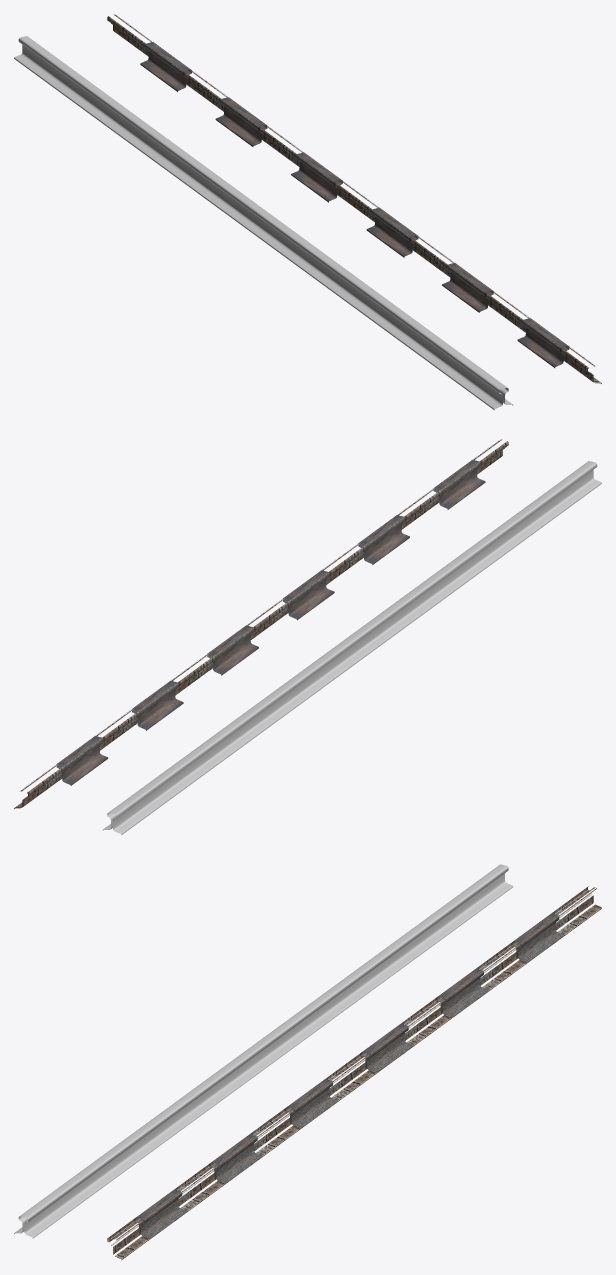
File: rail.obj
3 views of the same model, one above another, from view 1: azimuth 30°, elevation 25°; view 2: azimuth 150°, elevation 25°; view 3: azimuth 330°, elevation 25° (orthographic).
Parts seen in each view (by area): view 1: group_2.003_ID39.000_group_2.003_ID39.003; view 2: group_2.003_ID39.000_group_2.003_ID39.003; view 3: group_2.003_ID39.000_group_2.003_ID39.003.
Boxes of the visible parts, x1,y1,x2,y2 form: group_2.003_ID39.000_group_2.003_ID39.003: (14,14,601,410); group_2.003_ID39.000_group_2.003_ID39.003: (14,439,601,835); group_2.003_ID39.000_group_2.003_ID39.003: (14,864,601,1260).
Size of the model in its own units: 1.54 by 0.2701 by 11.97.
